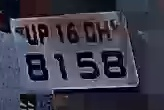1: (53, 51, 69, 81), (52, 21, 65, 46)
5: (74, 48, 101, 84)
6: (65, 20, 80, 47)
8: (22, 50, 52, 86), (100, 47, 129, 83)
C: (82, 19, 98, 45)
H: (95, 20, 112, 45)
P: (36, 23, 51, 47)
U: (24, 25, 39, 47)
